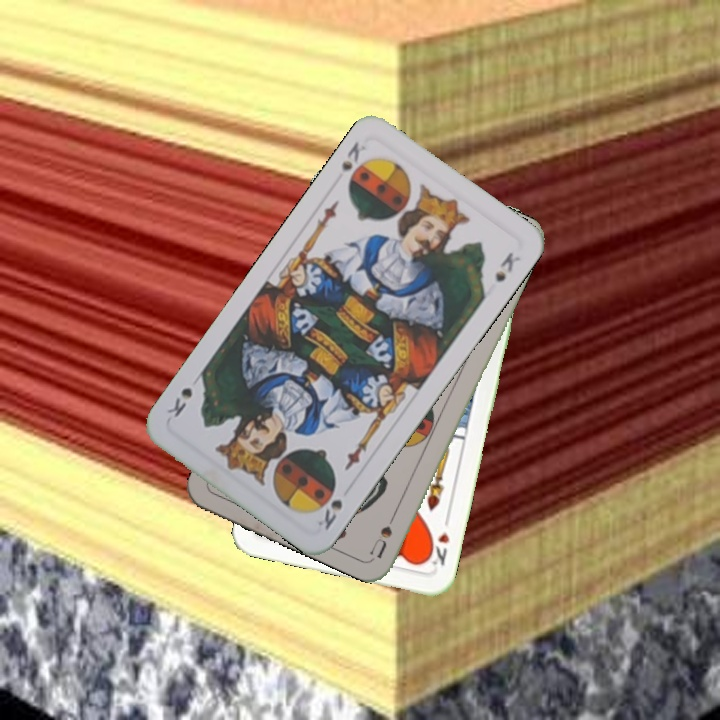HK: (422, 513, 453, 569)
SK: (313, 495, 345, 533), (337, 137, 369, 174)
SU: (367, 503, 402, 560)
